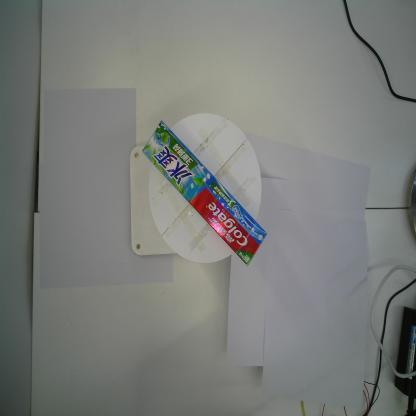Personal Hygiene: (142, 120, 267, 266)
